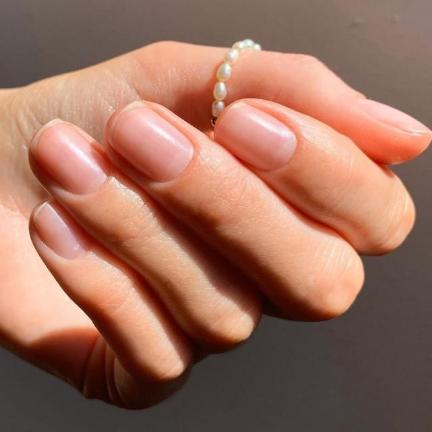Nail: (107, 101, 194, 183), (29, 119, 109, 195), (214, 101, 297, 171), (33, 199, 92, 260), (358, 99, 431, 133)
